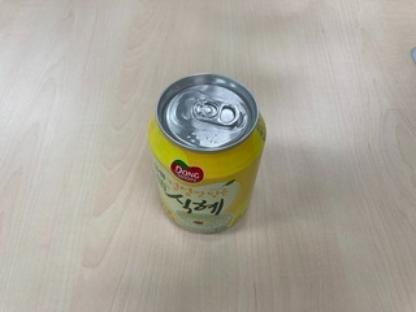Can: (146, 72, 268, 236)
